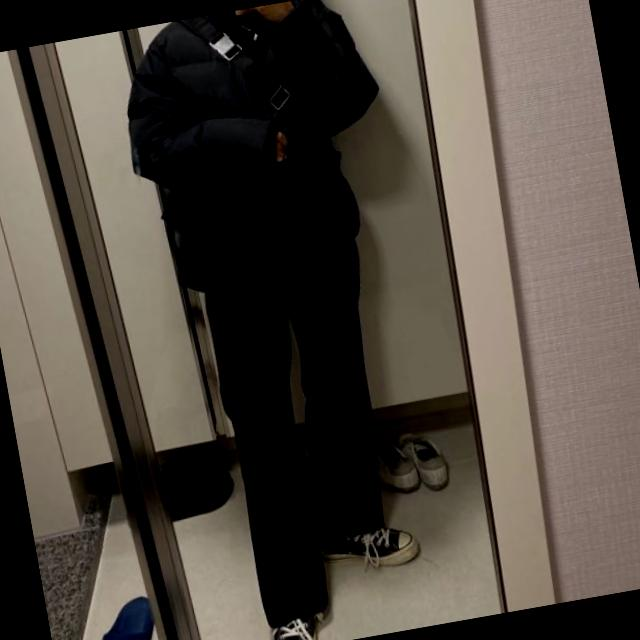padding: (103, 0, 410, 315)
slacks: (182, 169, 415, 618)
